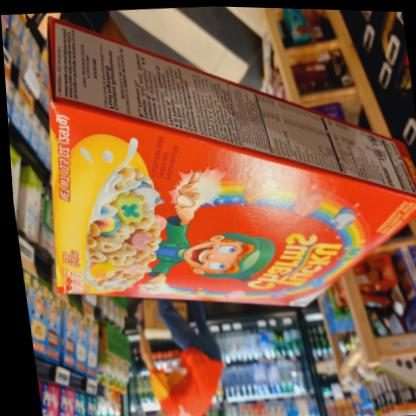i: (17, 0, 415, 327)
